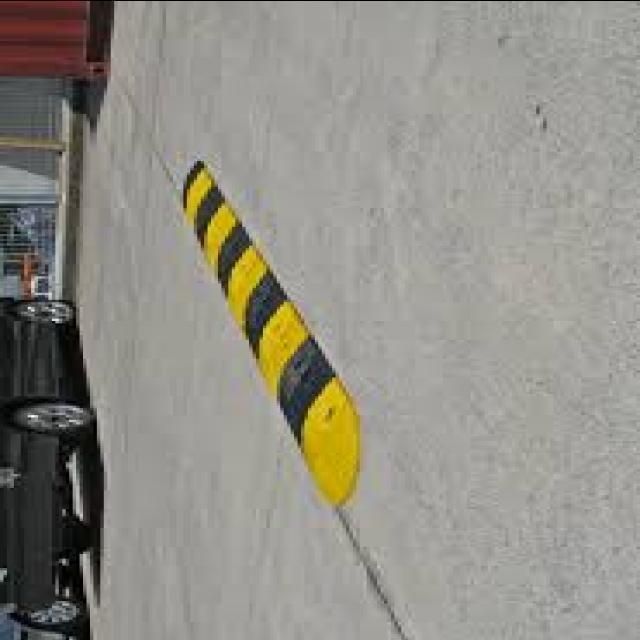speedbreaker: (160, 153, 390, 498)
